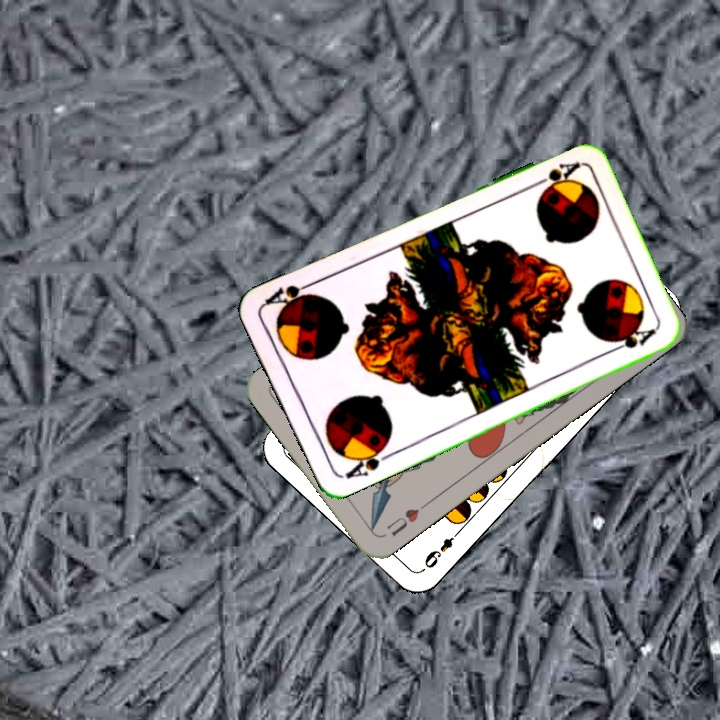E9: (419, 525, 464, 573)
HU: (382, 498, 430, 539)
SA: (338, 440, 394, 482), (526, 158, 583, 196)
